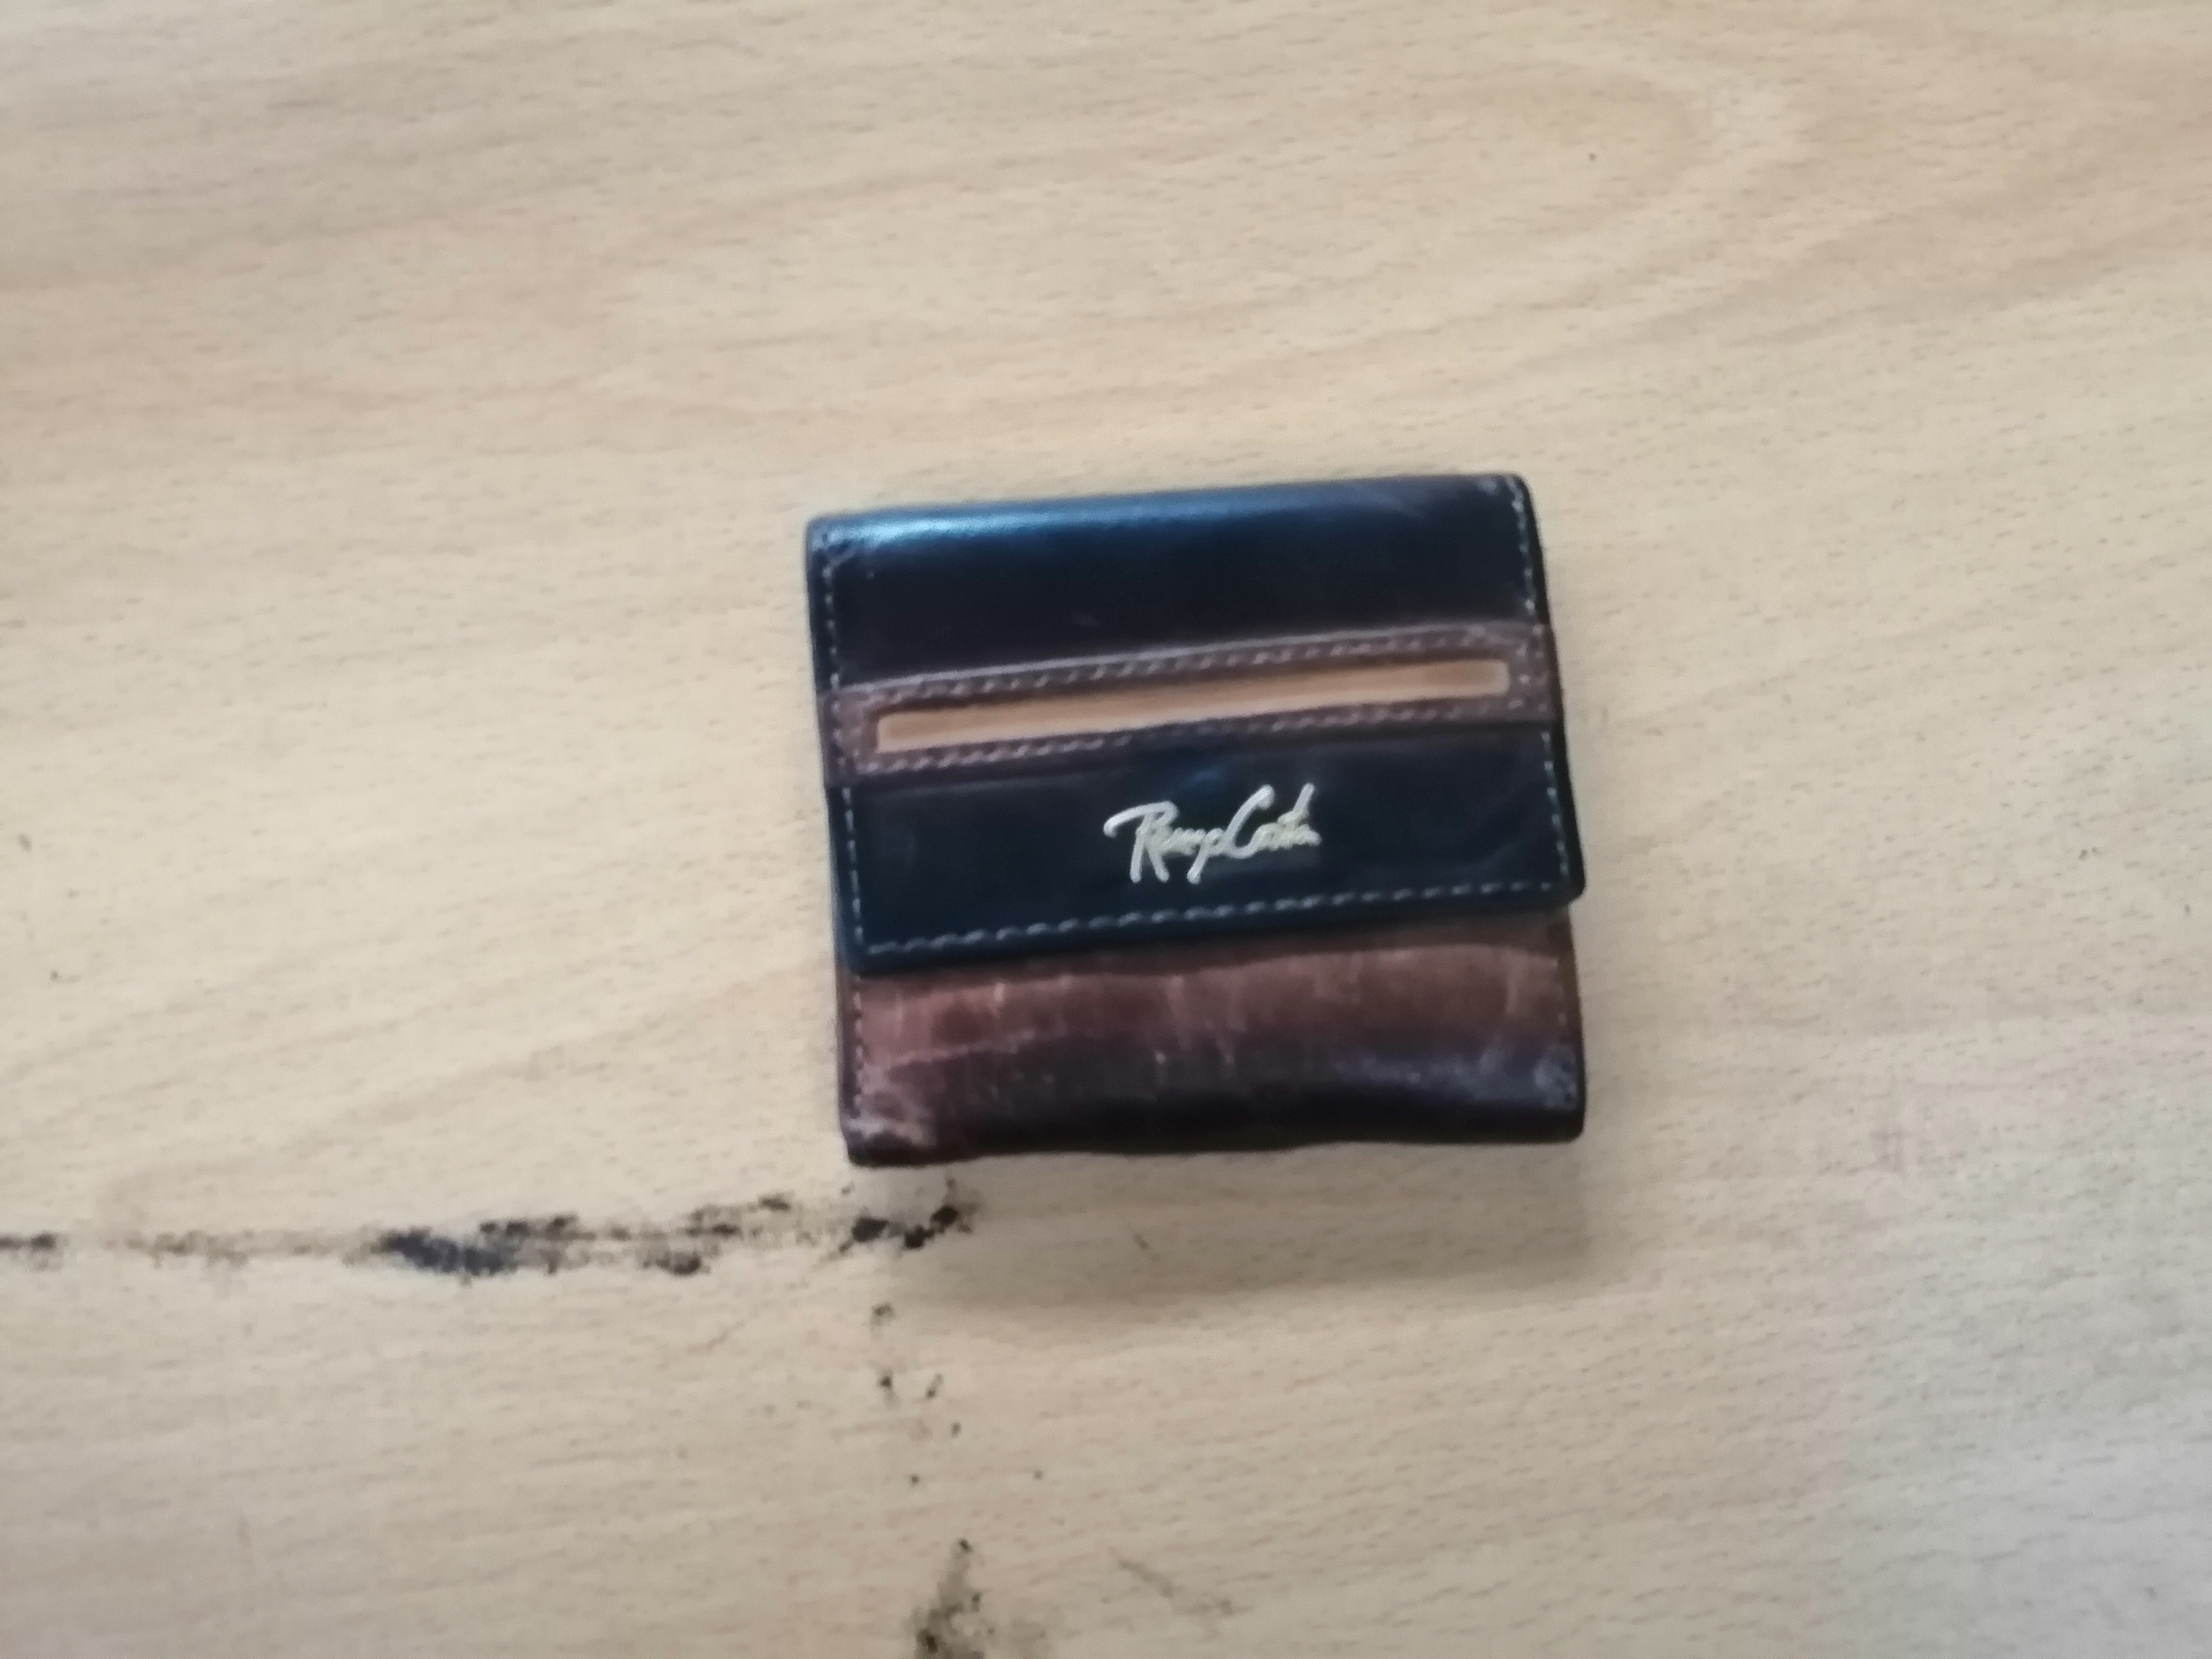monedero: (791, 464, 1618, 1178)
